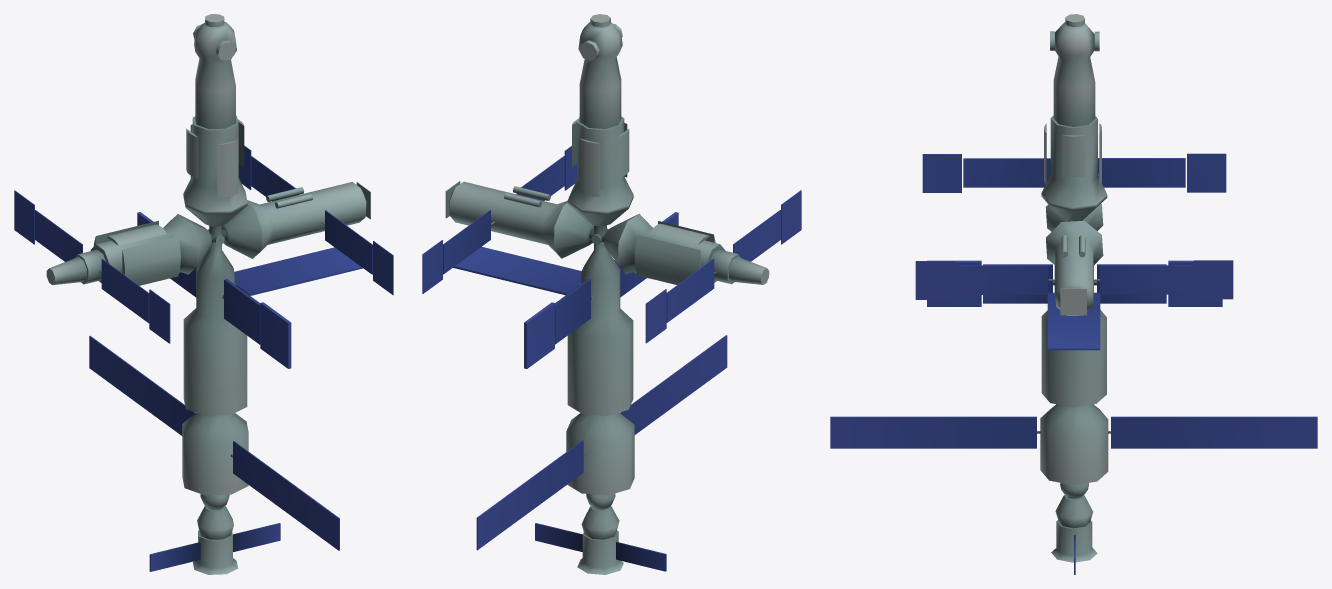
The model's file is space-space-stations-space-station_v2.glb.
The picture shows the model from 3 angles, left to right: view 1: azimuth 30°, elevation 25°; view 2: azimuth 150°, elevation 25°; view 3: azimuth 270°, elevation 25°; orthographic projection. The views are drawn at different scales.
Parts seen in each view (by area): view 1: Space Station_v2, Space Station_v2.001; view 2: Space Station_v2, Space Station_v2.001; view 3: Space Station_v2.001, Space Station_v2.
Part boxes in pixels (x1,y1,x2,y2): Space Station_v2: [46, 14, 370, 574]; Space Station_v2.001: [14, 145, 393, 571]; Space Station_v2: [445, 14, 769, 574]; Space Station_v2.001: [422, 146, 801, 571]; Space Station_v2.001: [830, 153, 1317, 574]; Space Station_v2: [1037, 14, 1110, 562].
Size of the model in its own units: 18.55 by 31 by 25.63.
